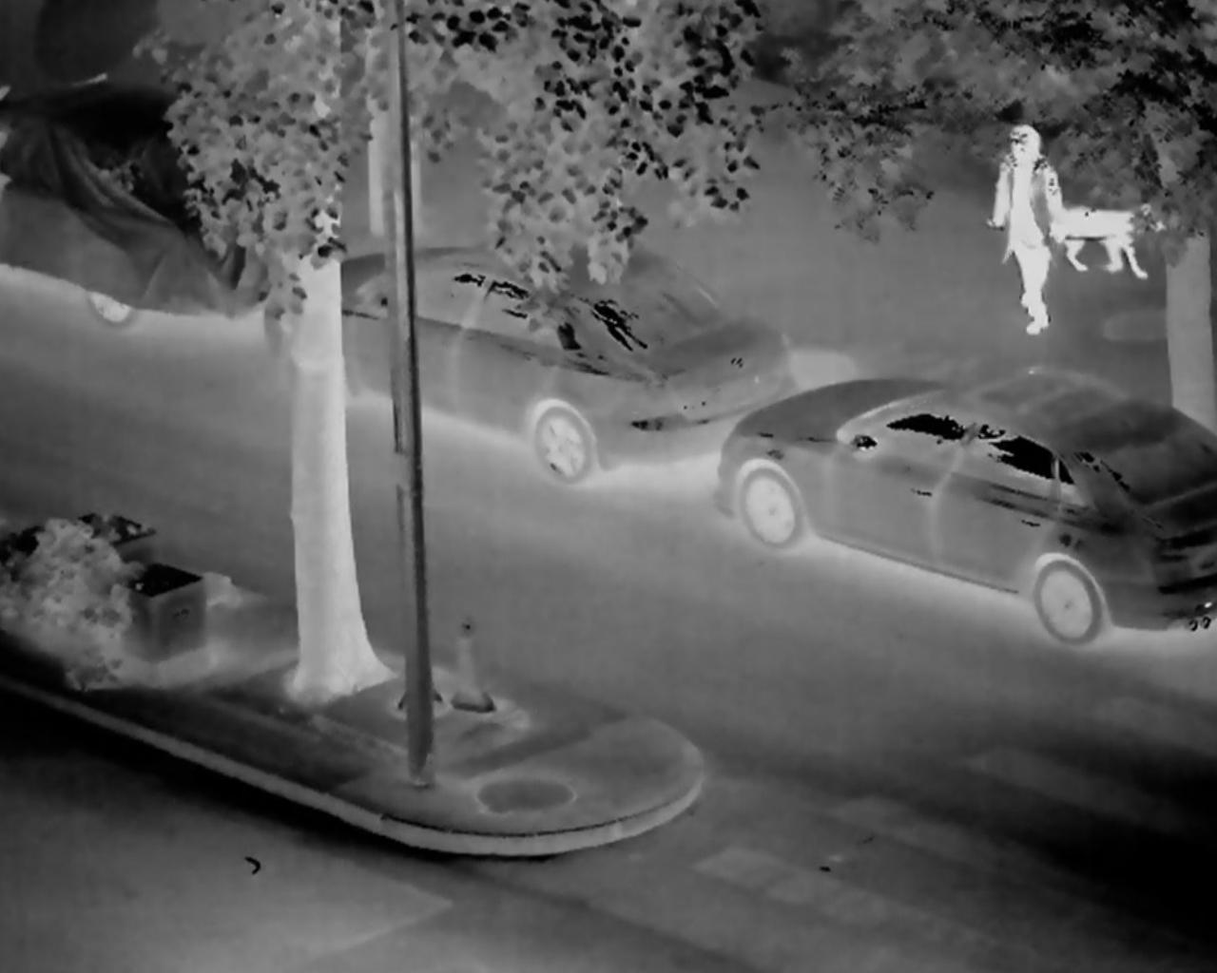person: (955, 113, 1067, 345)
